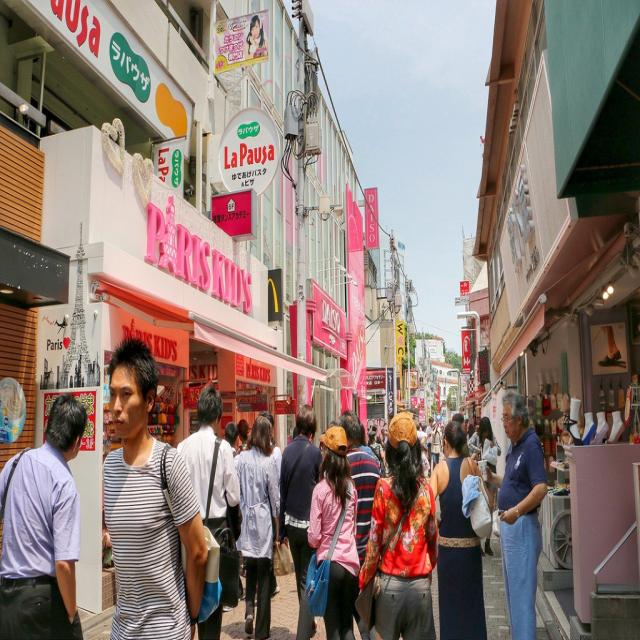body: (100, 336, 223, 639), (0, 391, 86, 639), (358, 409, 441, 639), (174, 382, 241, 639), (426, 420, 496, 640), (496, 393, 549, 639), (236, 414, 293, 640), (306, 424, 362, 639), (278, 402, 324, 640), (337, 409, 381, 640), (254, 412, 283, 606), (466, 416, 502, 557), (234, 417, 254, 579), (593, 321, 626, 371), (245, 13, 269, 61), (224, 420, 240, 469), (363, 419, 388, 450), (425, 416, 437, 478), (431, 421, 444, 473), (453, 411, 480, 434), (367, 430, 384, 462), (413, 420, 426, 438), (441, 414, 444, 456)
